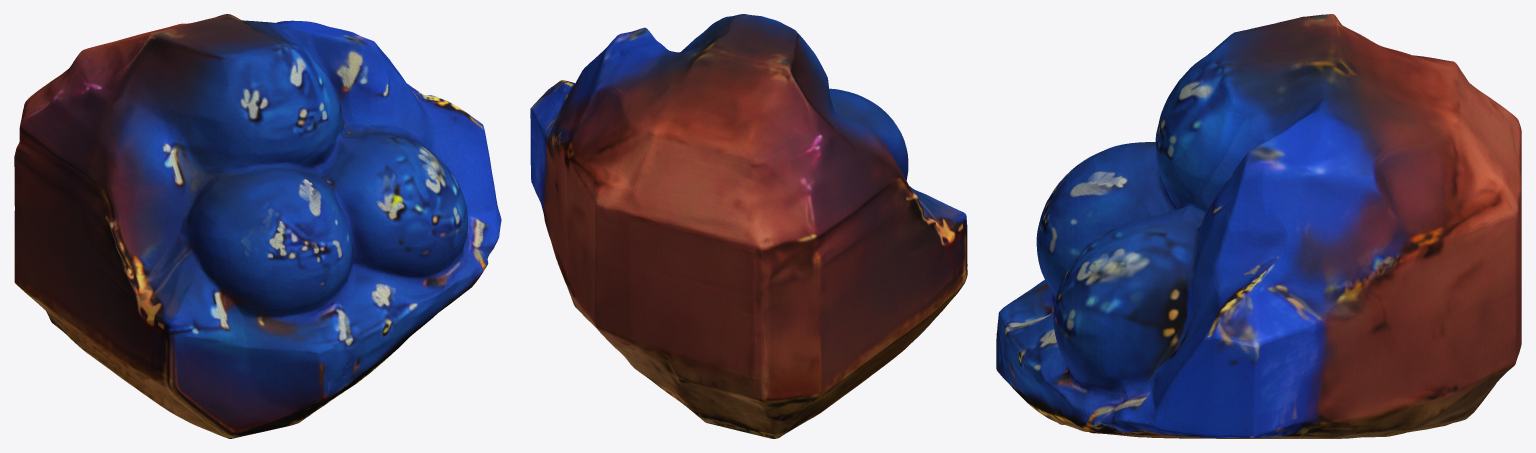
File: image_0003_segmented.glb
3 renders of one model, left to right at view 1: azimuth 30°, elevation 25°; view 2: azimuth 150°, elevation 25°; view 3: azimuth 270°, elevation 25°, orthographic. The views are drawn at different scales.
Visible parts, largest first — view 1: tmp4mn_7qdt.ply; view 2: tmp4mn_7qdt.ply; view 3: tmp4mn_7qdt.ply.
Boxes of the visible parts, x1=… form: tmp4mn_7qdt.ply: x1=14, y1=14, x2=501, y2=438; tmp4mn_7qdt.ply: x1=530, y1=14, x2=967, y2=438; tmp4mn_7qdt.ply: x1=996, y1=14, x2=1521, y2=438.
Size of the model in its own units: 2 by 1.64 by 2.
1 material, 1 textured.
